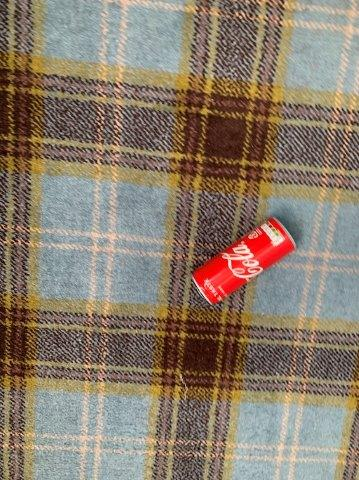kaleng: (193, 219, 297, 303)
